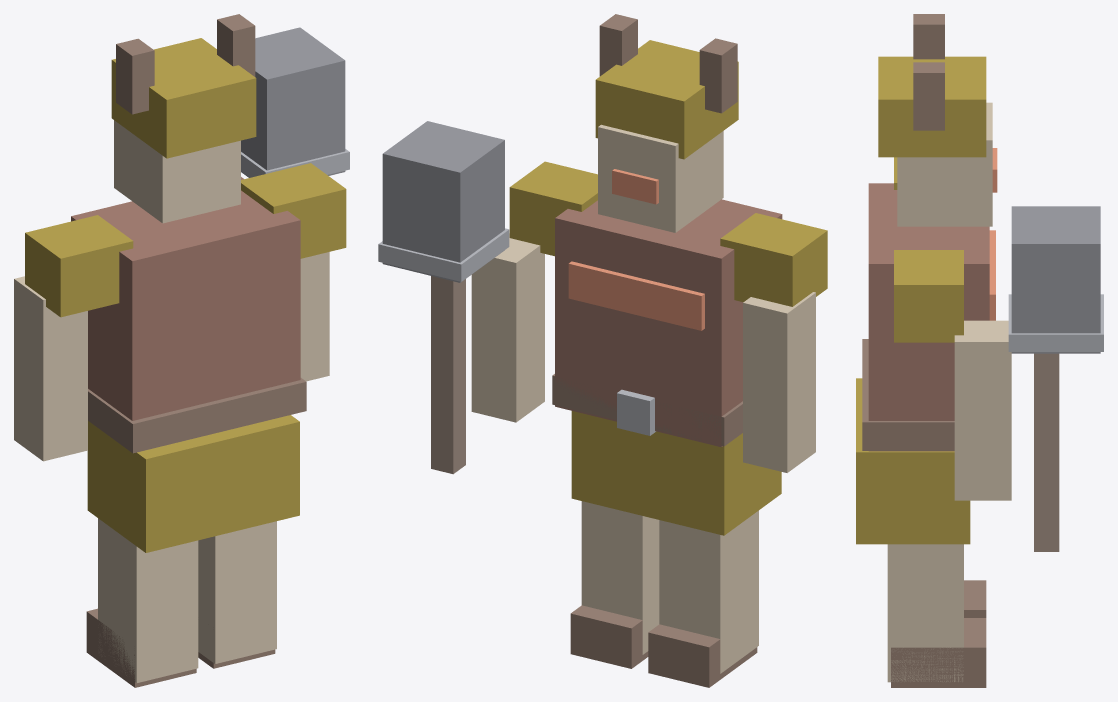
The model's file is barbarian_01.glb.
3 views of the same model, side by side, from view 1: azimuth 30°, elevation 25°; view 2: azimuth 150°, elevation 25°; view 3: azimuth 270°, elevation 25° (orthographic).
Parts seen in each view (by area): view 1: barbarian_01; view 2: barbarian_01; view 3: barbarian_01.
Part boxes in pixels (<box>): barbarian_01: <box>14,14,349,687</box>; barbarian_01: <box>378,14,827,687</box>; barbarian_01: <box>856,14,1103,687</box>.
Bounding box in the file's own units: 1.25 × 2.12 × 0.78.
